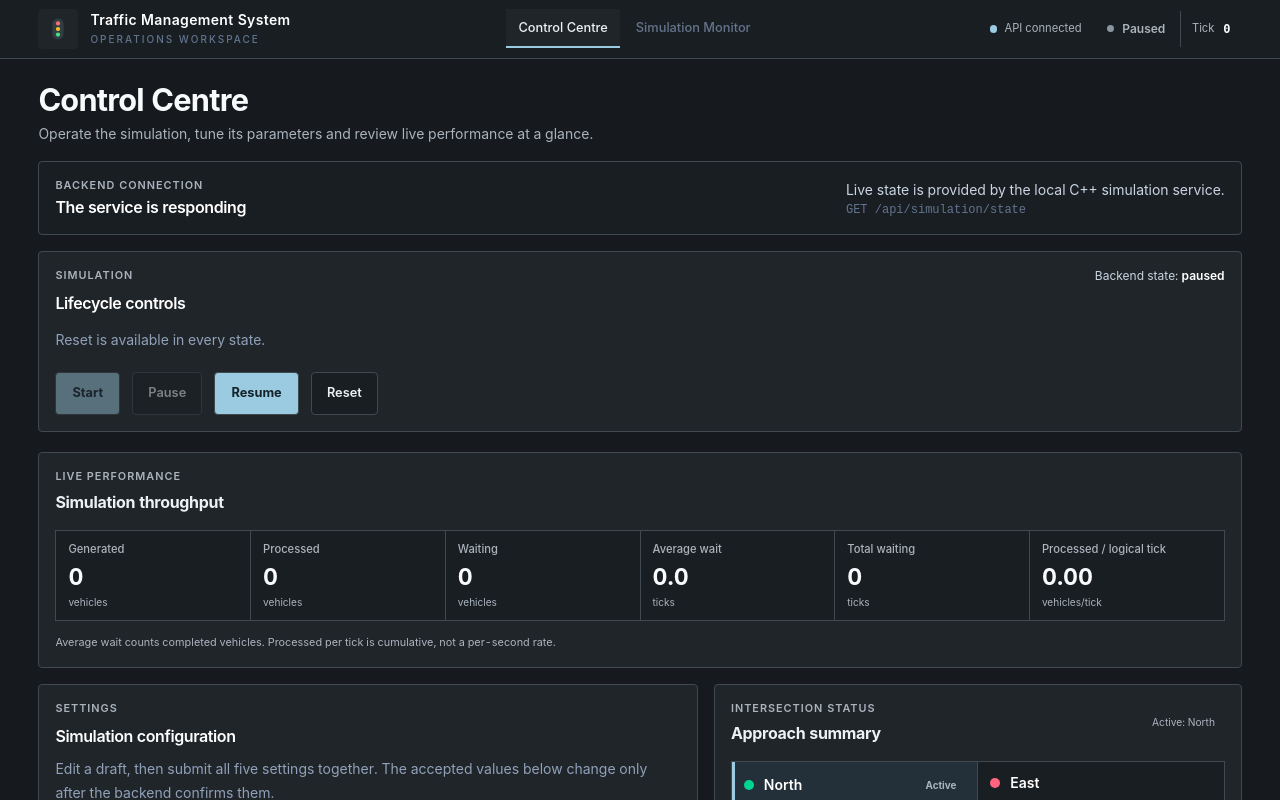
Test: simulation controls and configuration › calls resume and refreshes authoritative state
expect the heading "Lifecycle controls" is shown: met, box [55,291,185,316]
expect the heading "Simulation configuration" is shown: met, box [55,726,236,746]
What coordinates should you click on to do the following:
click the button "Resume"
I would click on:
 (257, 394)
Its box is [214,372,299,415].
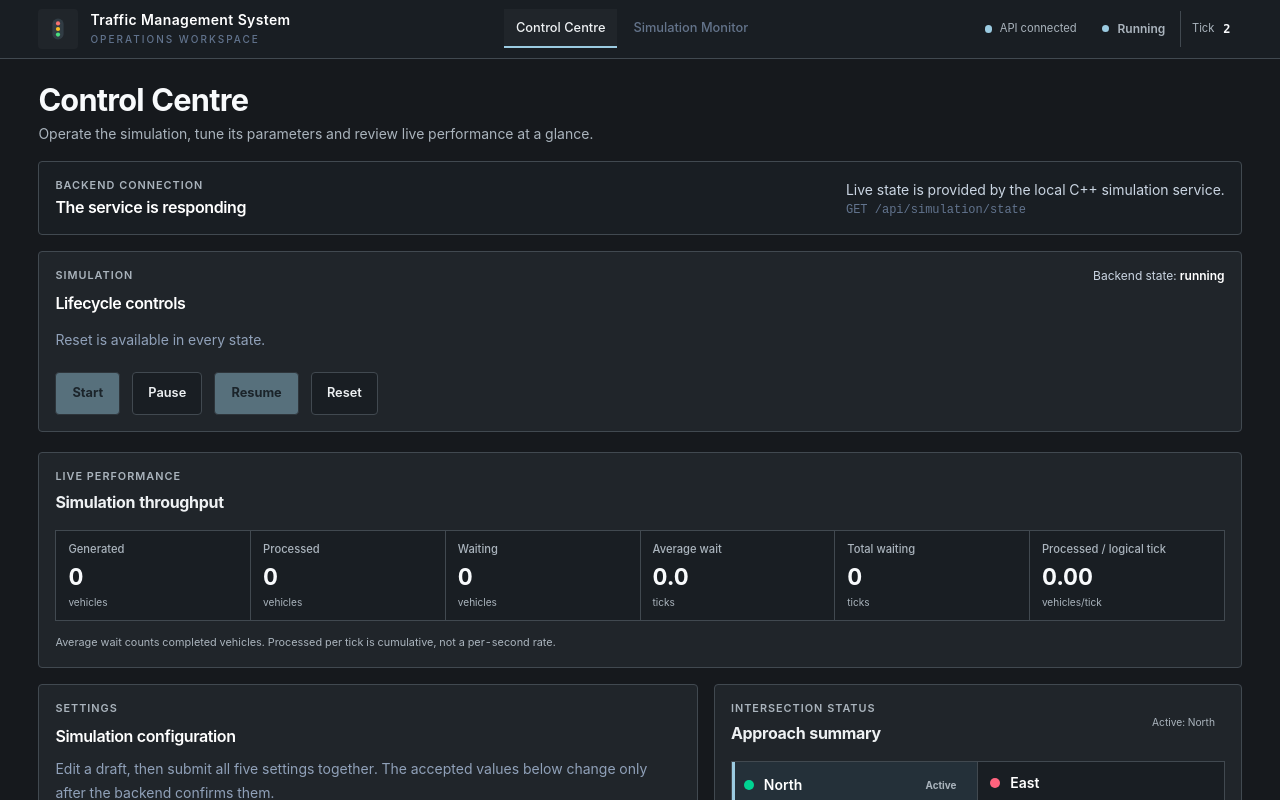
expect the element "Lifecycle controls" shows "running": met, box [1180,268,1225,283]
